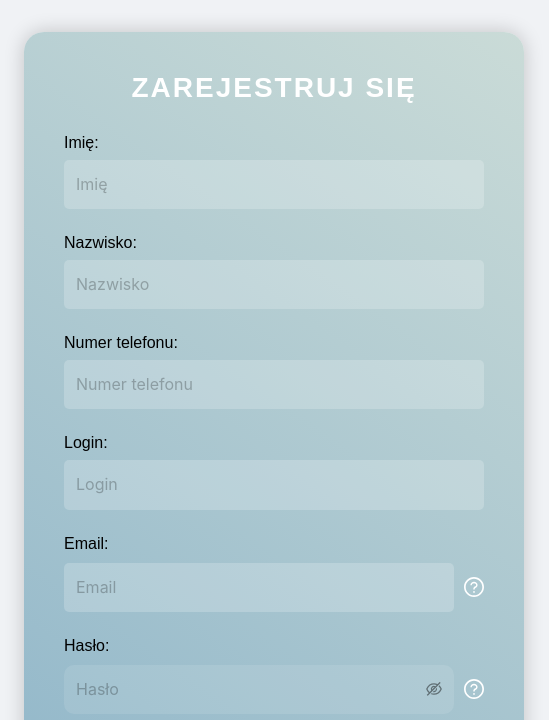
Test: Register Component › displays an error when passwords do not match
Type "Jan" into the field labelled "Imię:". click: (274, 185)
box: [64,160,484,209]
Type "Kowalski" into the field labelled "Nazwisko:". click: (274, 285)
box: [64,260,484,309]
Type "123456789" into the field labelled "Numer telefonu:". click: (274, 385)
box: [64,360,484,409]
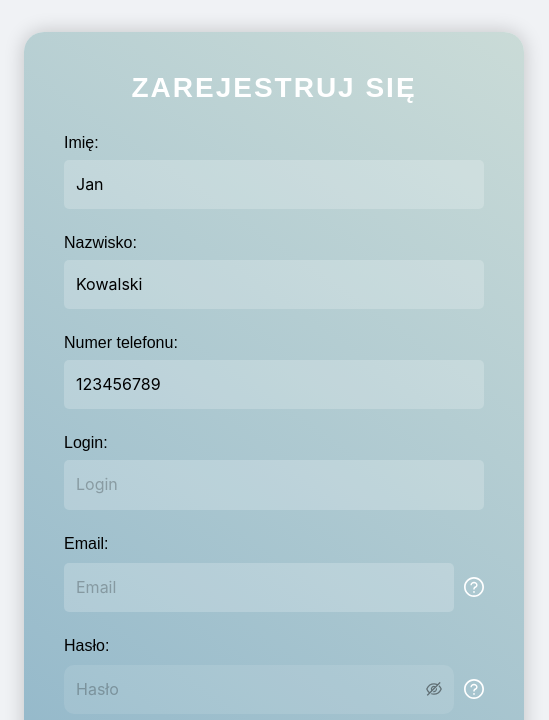
Type "jkowalski" into the field labelled "Login:". click: (274, 485)
box: [64,460,484,510]
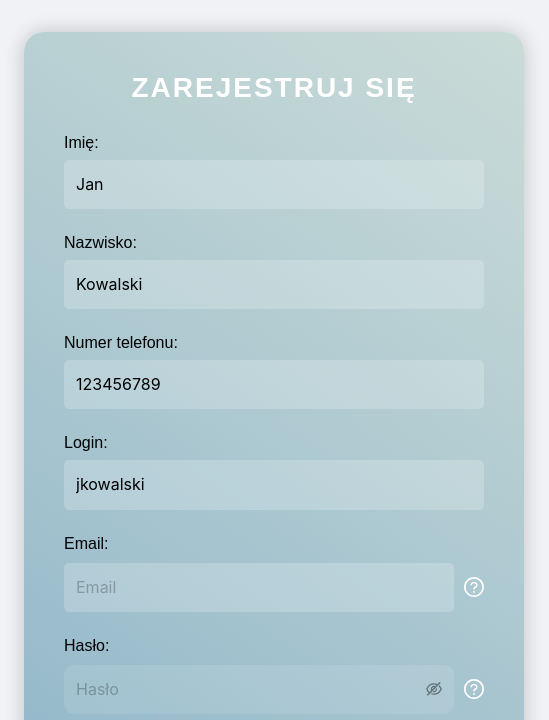
Type "jan@example.com" into the field labelled "Email:". click: (259, 587)
box: [64,563,454,612]
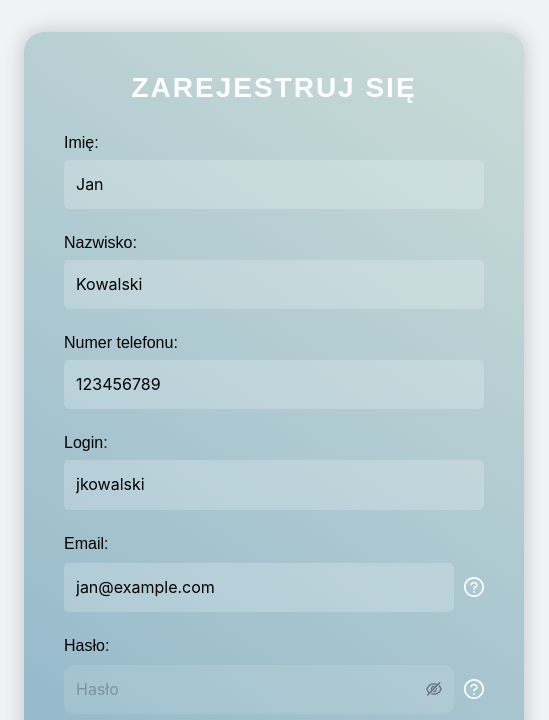
Type "Password123!" into the password field labelled "Hasło:". click: (249, 689)
box: [76,677,422,702]
(page scrolled)
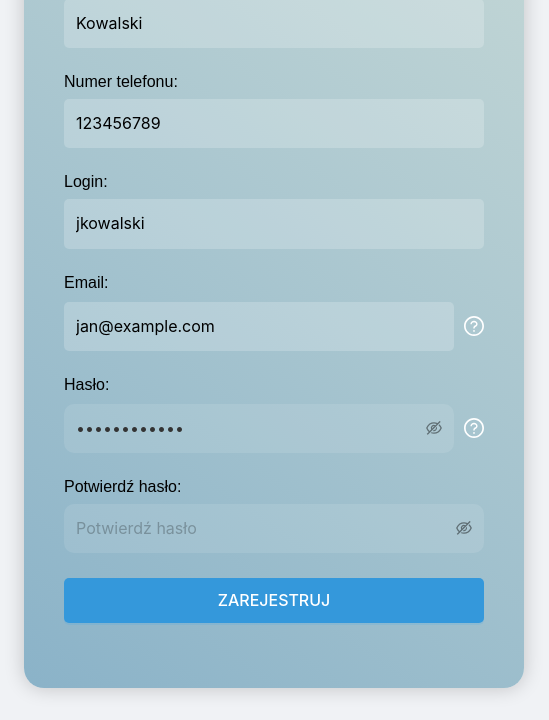
Type "DifferentPassword123!" into the password field labelled "Potwierdź hasło:". click: (264, 528)
box: [76,516,452,541]
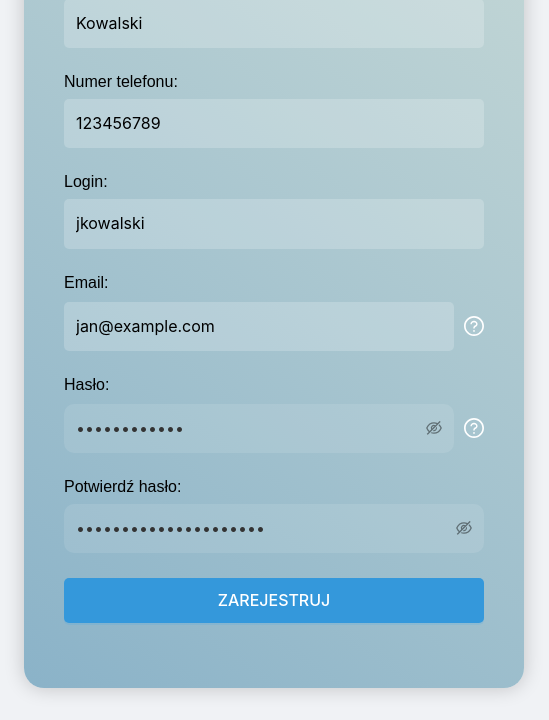
Click the button "Zarejestruj". click: (274, 600)
box: [64,578,484,623]
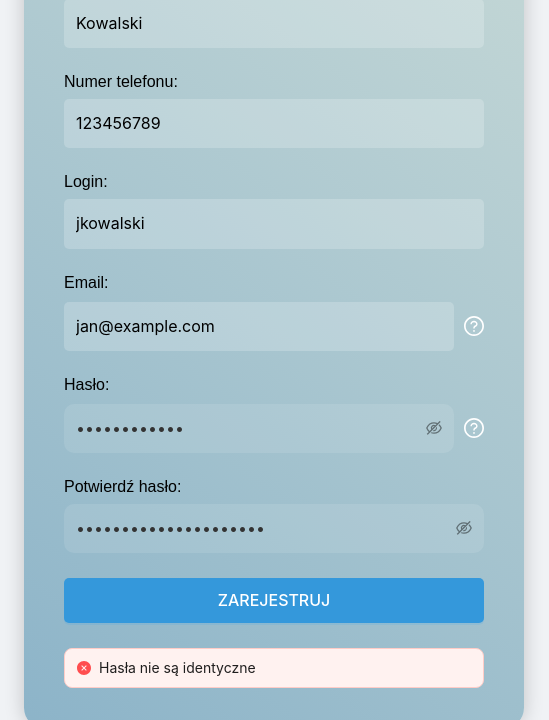
Check: the text "Hasła nie są identyczne" is shown, box [99,659,256,676]
